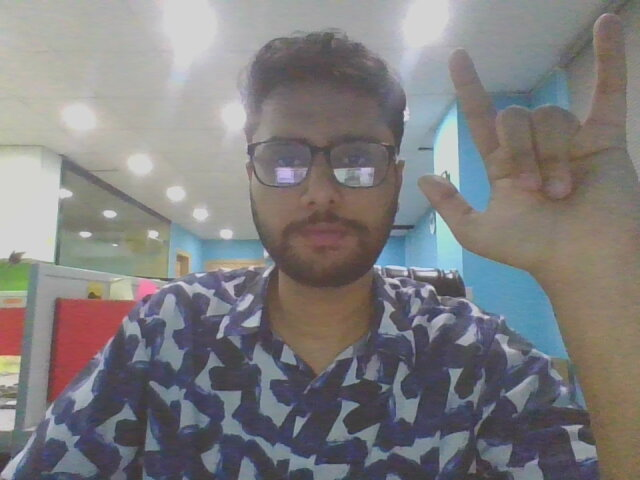iloveyou: (416, 11, 640, 305)
